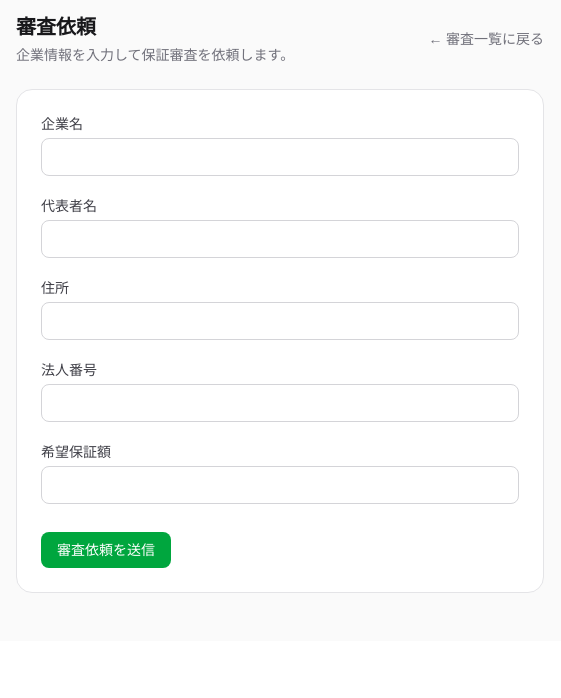
Test: ExamNewPage › 未認証の場合はエラーメッセージを表示しfetchを呼ばない
Type "テスト会社" into the field labelled "企業名".
click(280, 157); type("テスト会社")  # box [41,138,519,176]
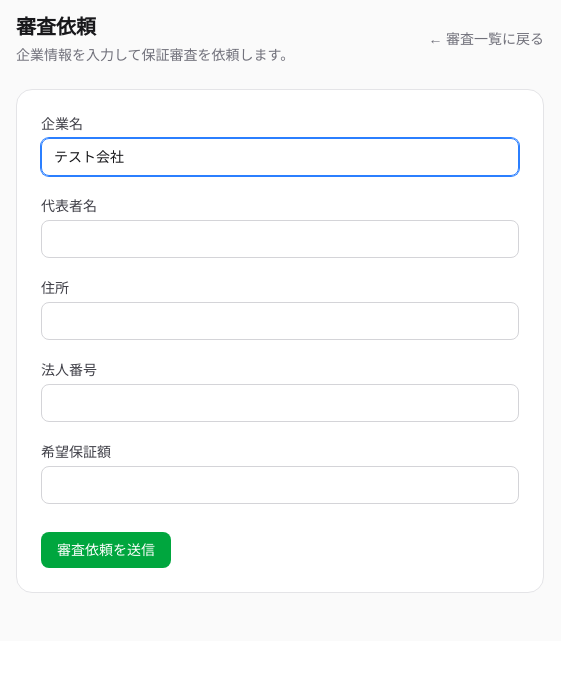
Type "田中太郎" into the field labelled "代表者名".
click(280, 239); type("田中太郎")  # box [41,220,519,258]
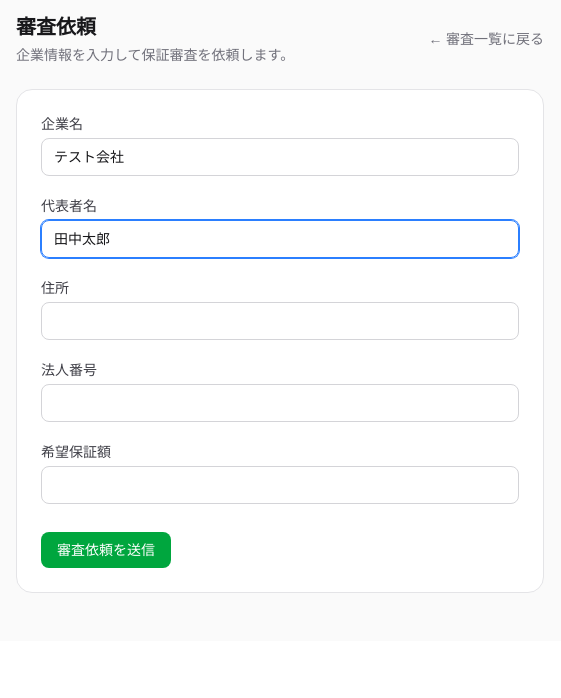
Type "東京都" into the field labelled "住所".
click(280, 321); type("東京都")  # box [41,302,519,340]
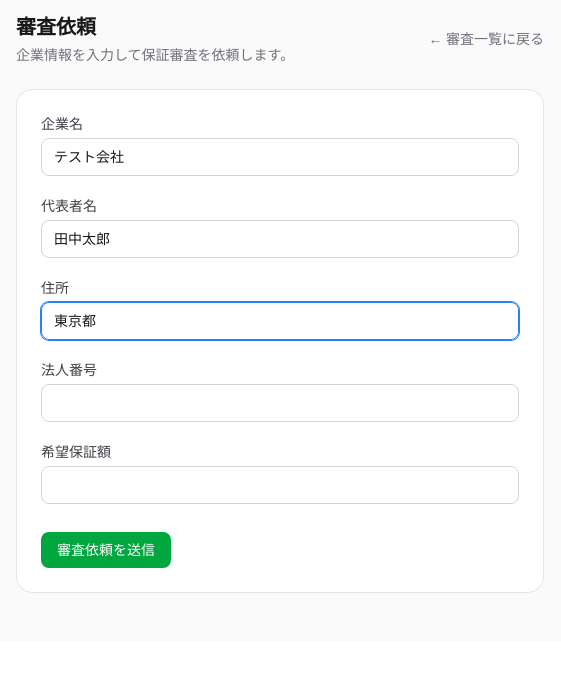
Type "1234567890123" into the field labelled "法人番号".
click(280, 403); type("1234567890123")  # box [41,384,519,422]
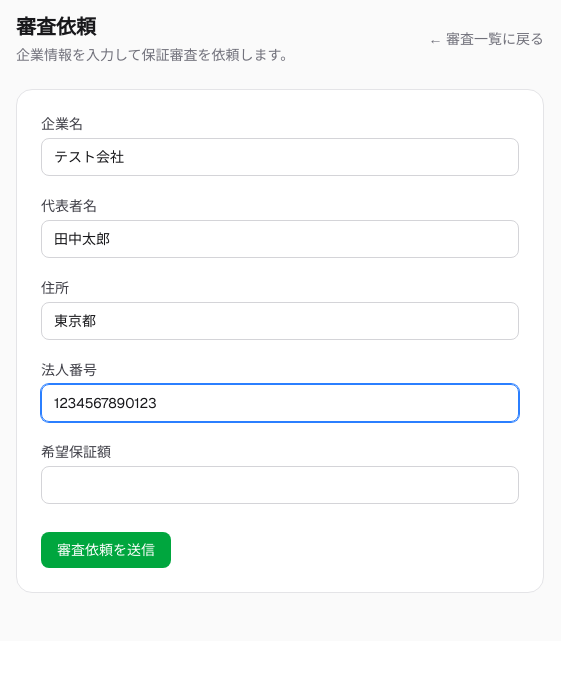
Type "100000" into the number field labelled "希望保証額".
click(280, 485); type("100000")  # box [41,466,519,504]
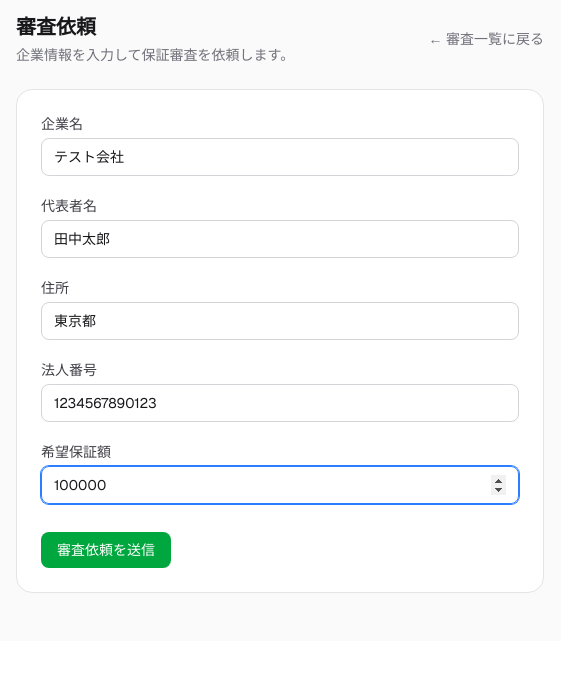
Click the button "審査依頼を送信".
click(106, 550)  # box [41,532,171,568]
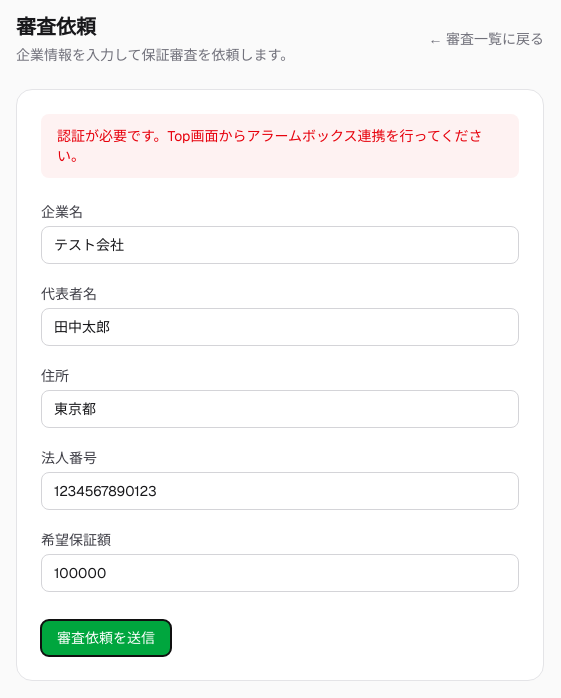
expect the text "認証が必要です。Top画面からアラームボックス連携を行ってください。" is shown: met, box [41,114,519,178]
